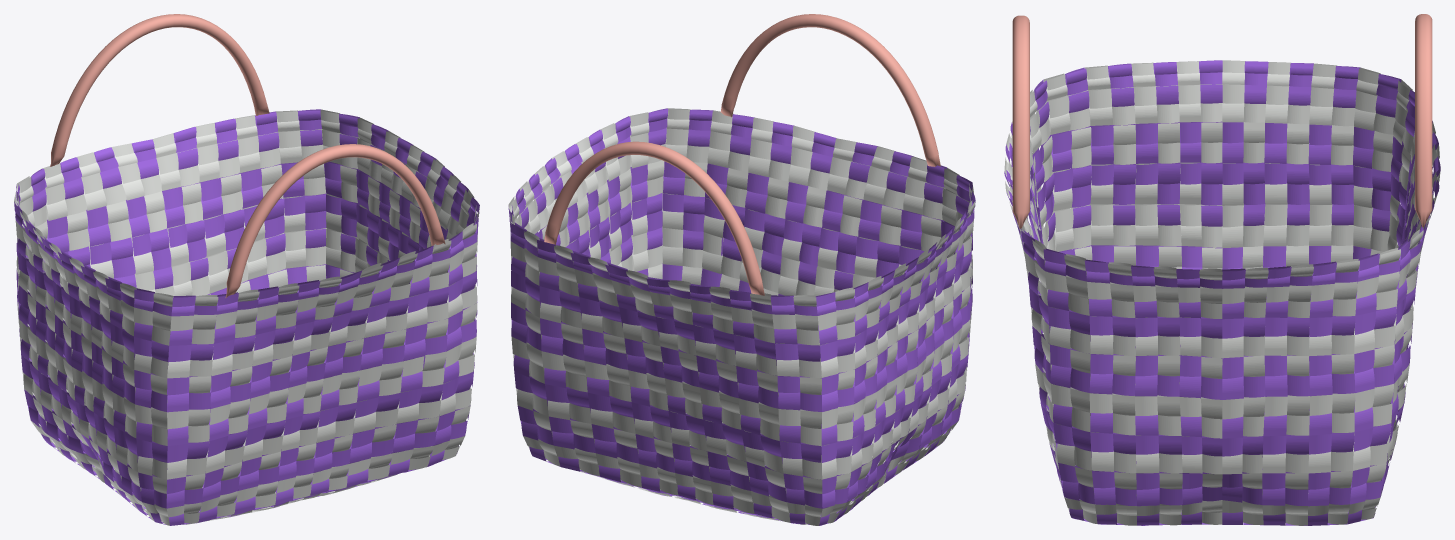
The model's file is product2.glb.
3 renders of one model, left to right at view 1: azimuth 30°, elevation 25°; view 2: azimuth 150°, elevation 25°; view 3: azimuth 270°, elevation 25°, orthographic. The views are drawn at different scales.
Visible parts, largest first — view 1: Tessellation, NurbsCurve, NurbsCurve.001; view 2: Tessellation, NurbsCurve, NurbsCurve.001; view 3: Tessellation, NurbsCurve.001, NurbsCurve.
Part boxes in pixels (bbox=[...]): Tessellation: bbox=[14, 109, 479, 525]; NurbsCurve: bbox=[50, 14, 269, 166]; NurbsCurve.001: bbox=[225, 144, 445, 297]; Tessellation: bbox=[508, 108, 975, 525]; NurbsCurve: bbox=[544, 141, 764, 295]; NurbsCurve.001: bbox=[720, 14, 940, 166]; Tessellation: bbox=[1004, 60, 1440, 525]; NurbsCurve.001: bbox=[1012, 15, 1029, 228]; NurbsCurve: bbox=[1415, 14, 1432, 227].
Bounding box in the file's own units: 2.89 × 2.78 × 2.52.
